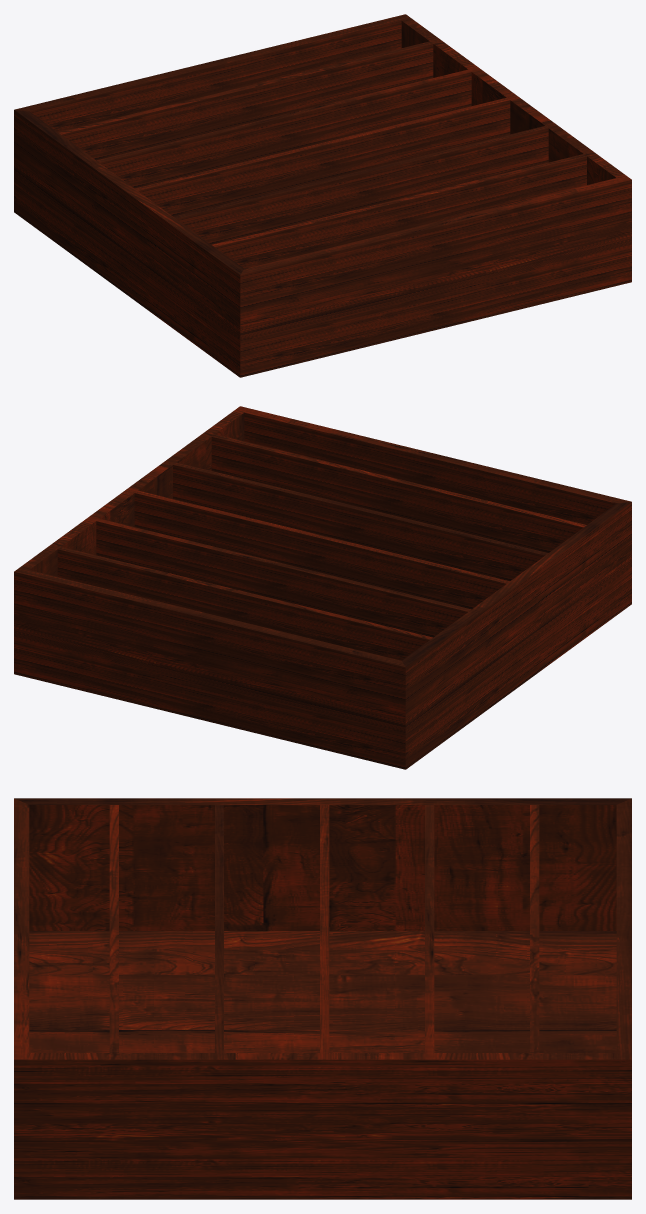
Rendered from Bookcase.fbx.
3 renders of one model, top to bottom at view 1: azimuth 30°, elevation 25°; view 2: azimuth 150°, elevation 25°; view 3: azimuth 270°, elevation 25°, orthographic. The views are drawn at different scales.
Visible parts, largest first — view 1: Cube; view 2: Cube; view 3: Cube.
Part boxes in pixels (x1,y1,x2,y2): Cube: (14, 14, 631, 377); Cube: (14, 406, 631, 769); Cube: (14, 798, 631, 1199).
Size of the model in its own units: 2 by 0.5 by 2.
